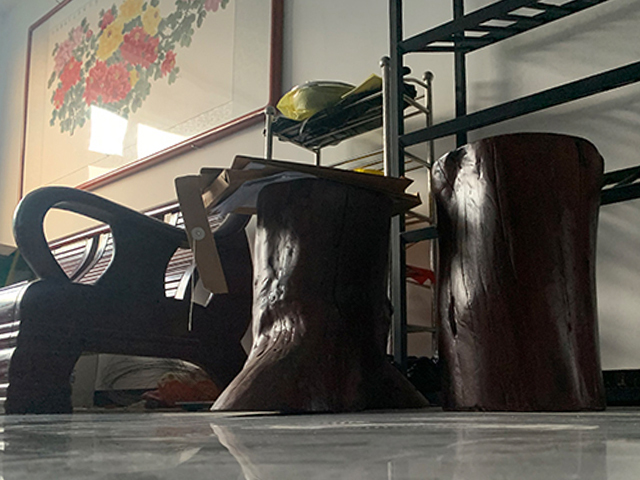sofa: (1, 187, 252, 419)
stool: (209, 176, 429, 412), (429, 130, 609, 413)
